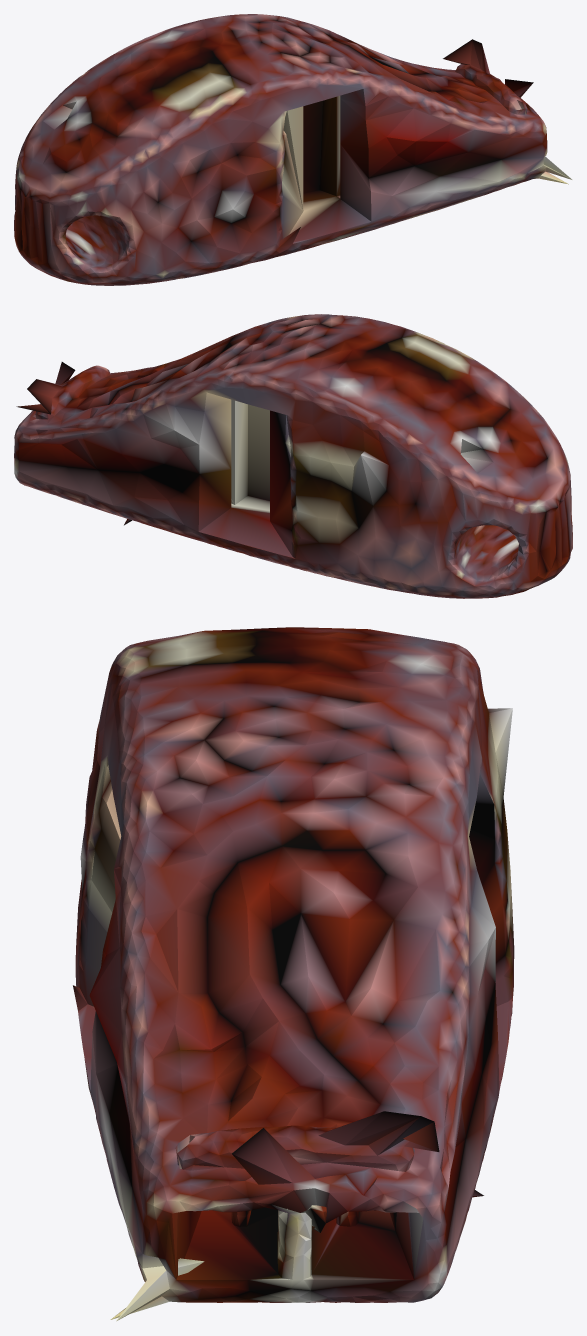
Rendered from whistle_decemeted_final600.obj.
3 views of the same model, one above another, from view 1: azimuth 30°, elevation 25°; view 2: azimuth 150°, elevation 25°; view 3: azimuth 270°, elevation 25° (orthographic). The views are drawn at different scales.
Size of the model in its own units: 1.92 by 0.6495 by 0.7317.
